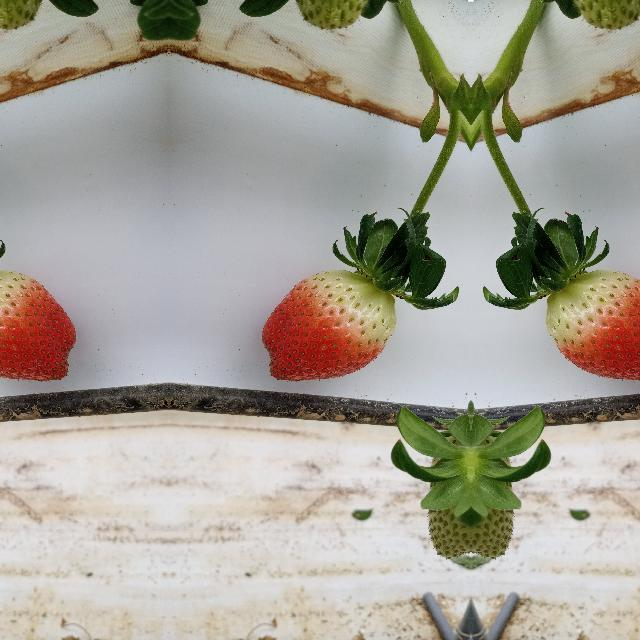Health_25: (470, 434, 518, 566), (424, 434, 471, 566)
Health_75: (260, 268, 396, 382), (545, 268, 640, 382), (0, 268, 76, 382)
